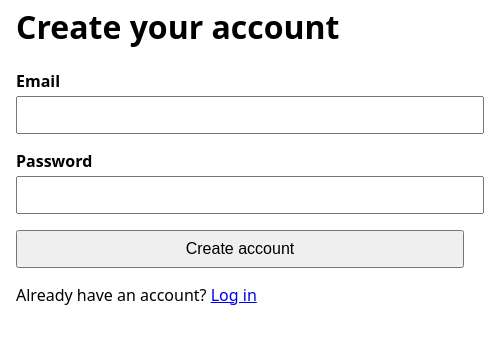
Test case: RegisterPage › shows validation errors for a weak password
Type "fan@example.com" into the field labelled "Email".
click(250, 115); type("fan@example.com")  # box [16,96,484,134]
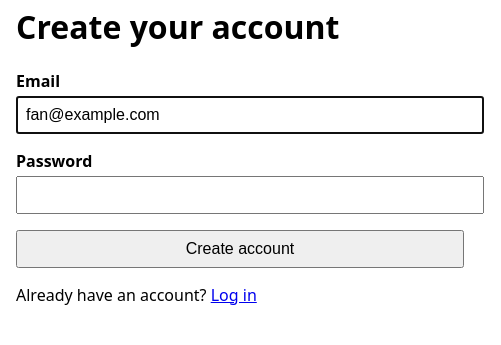
Type "short" into the password field labelled "Password".
click(250, 195); type("short")  # box [16,176,484,214]
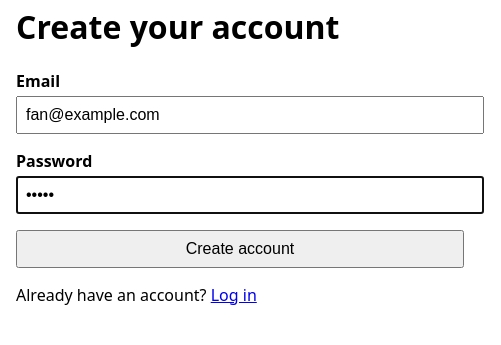
Click the button "Create account".
click(240, 249)  # box [16,230,464,268]
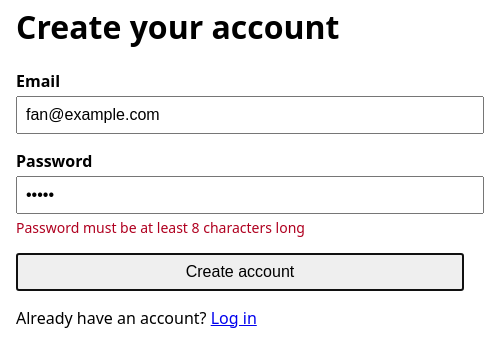
Result: the text "Password must be at least 8 characters long" is shown at [16,218,305,237]
